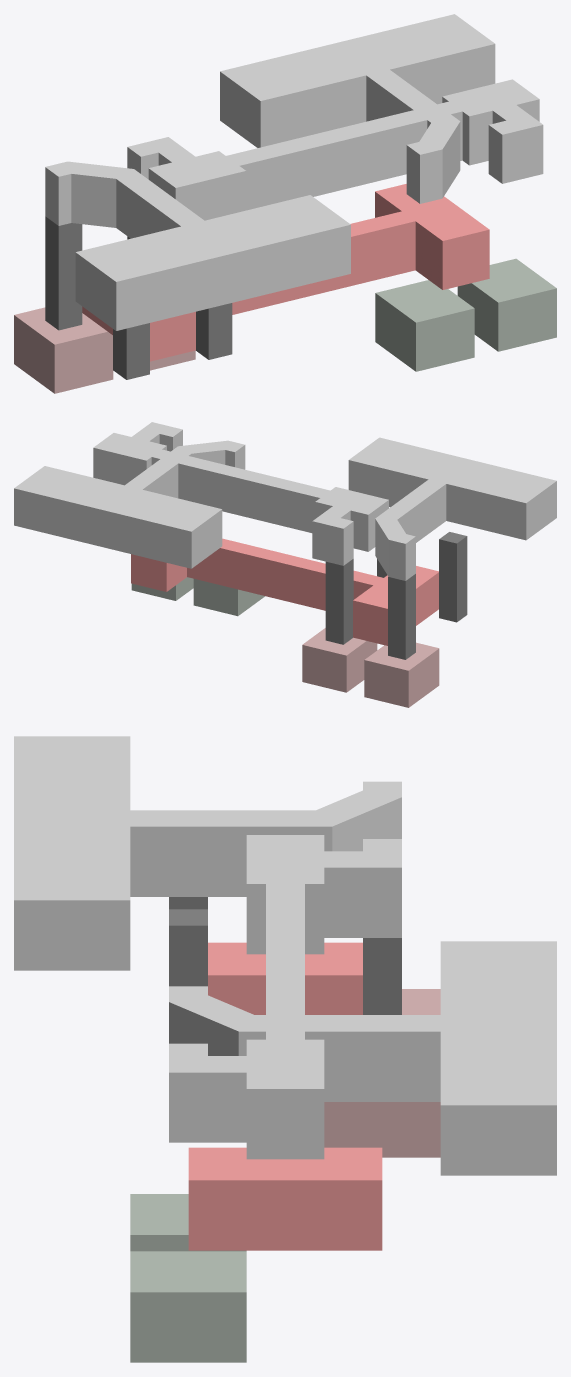
Rendered from board.glb.
The picture shows the model from 3 angles, top to bottom: view 1: azimuth 30°, elevation 25°; view 2: azimuth 150°, elevation 25°; view 3: azimuth 270°, elevation 25°; orthographic projection. The views are drawn at different scales.
Parts seen in each view (by area): view 1: Copper_Net3_Contour0 (×3), Copper_Net4_Contour0 (×3), Copper_Net2_Contour0 (×3), Copper_Net1_Contour0; view 2: Copper_Net3_Contour0 (×3), Copper_Net4_Contour0 (×3), Copper_Net2_Contour0 (×3), Copper_Net1_Contour0, Copper_Net2_Contour1; view 3: Copper_Net2_Contour0 (×4), Copper_Net4_Contour0 (×2), Copper_Net3_Contour0 (×2), Copper_Net1_Contour0, Copper_Net2_Contour1.
Part boxes in pixels (x1=…): Copper_Net3_Contour0 (×3): x1=14, y1=161, x2=350, y2=393; Copper_Net4_Contour0 (×3): x1=113, y1=14, x2=495, y2=379; Copper_Net2_Contour0 (×3): x1=127, y1=79, x2=556, y2=359; Copper_Net1_Contour0: x1=82, y1=184, x2=489, y2=361; Copper_Net3_Contour0 (×3): x1=348, y1=437, x2=556, y2=707; Copper_Net4_Contour0 (×3): x1=14, y1=440, x2=467, y2=622; Copper_Net2_Contour0 (×3): x1=93, y1=422, x2=388, y2=692; Copper_Net1_Contour0: x1=131, y1=538, x2=438, y2=645; Copper_Net2_Contour1: x1=325, y1=559, x2=353, y2=644; Copper_Net2_Contour0 (×4): x1=130, y1=835, x2=440, y2=1362; Copper_Net4_Contour0 (×2): x1=130, y1=941, x2=556, y2=1251; Copper_Net3_Contour0 (×2): x1=14, y1=736, x2=440, y2=1014; Copper_Net1_Contour0: x1=188, y1=942, x2=382, y2=1250; Copper_Net2_Contour1: x1=363, y1=938, x2=401, y2=1014.
Size of the model in its own units: 4.5e-06 by 1.65e-06 by 2.8e-06.
